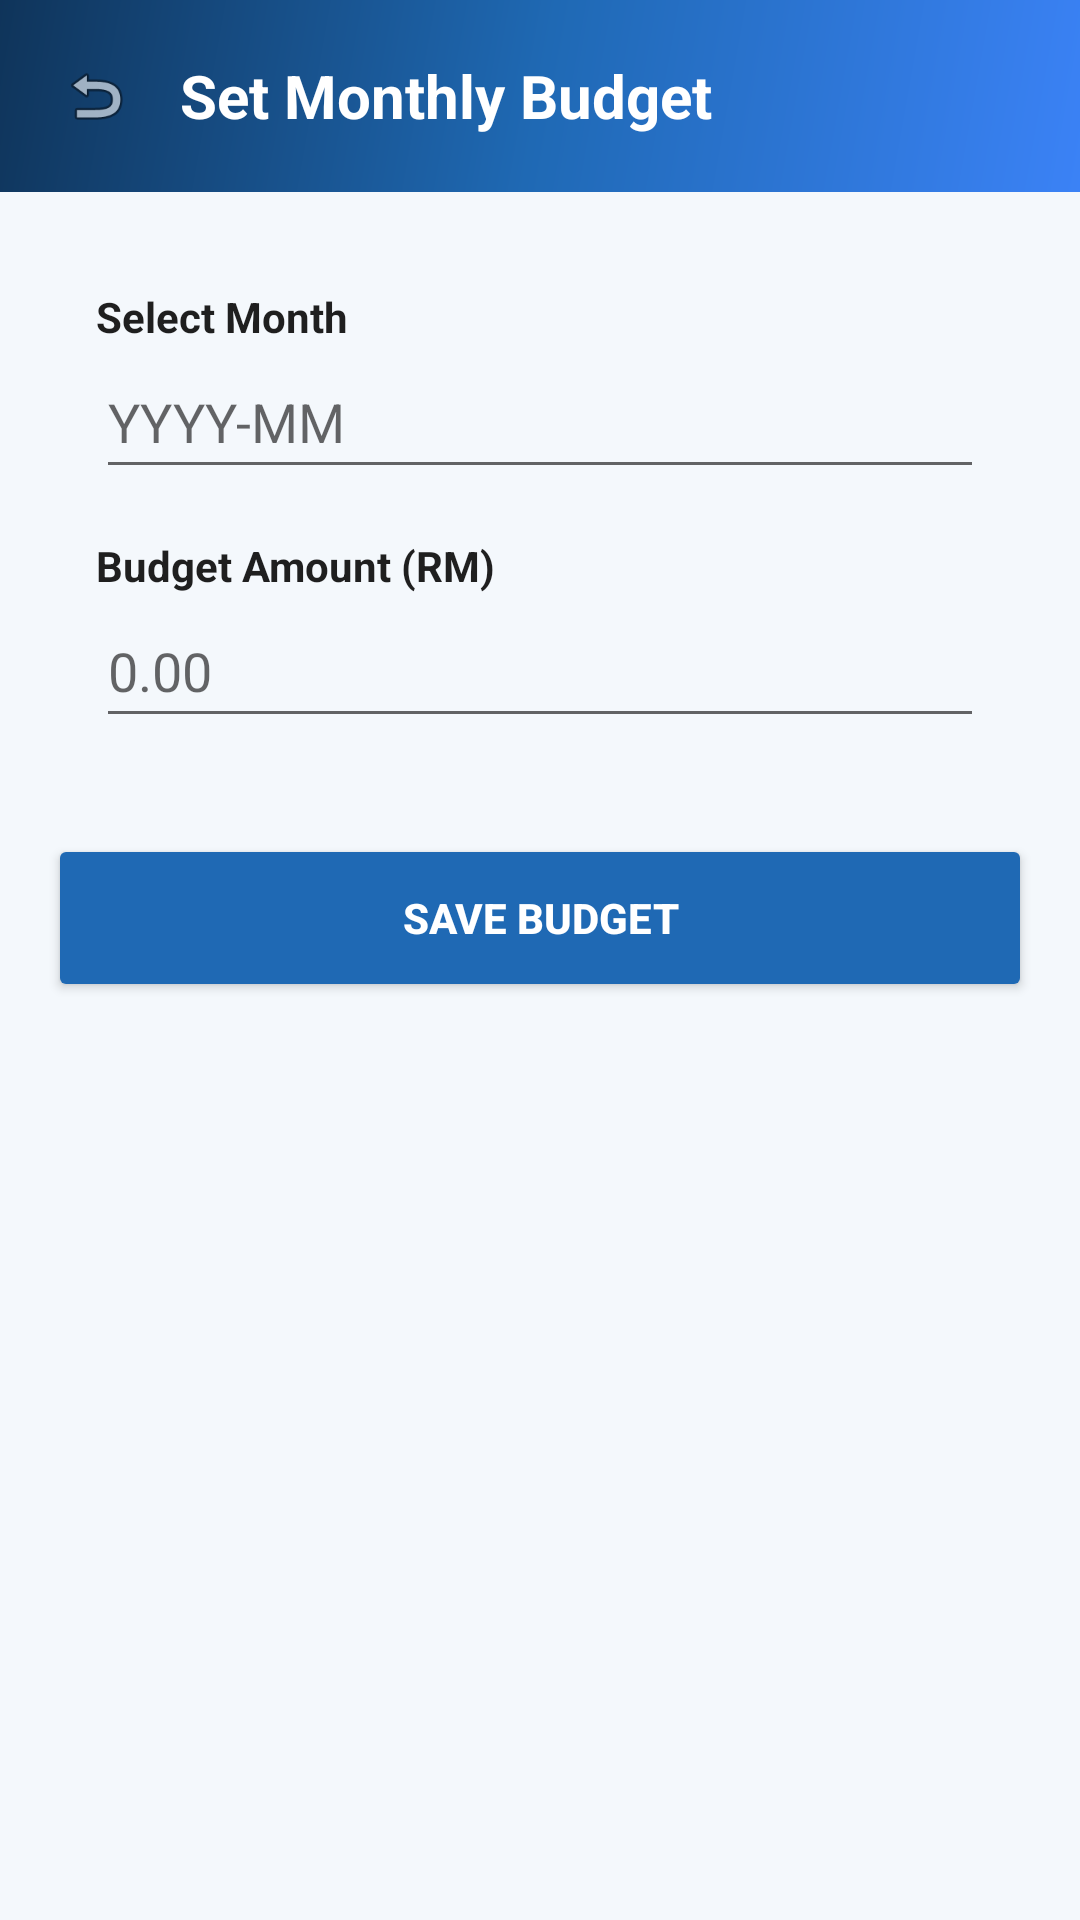

Icon click points for this 1080x1920 phone screenshot, format (x=x, y=y):
revert: (x=97, y=96)
